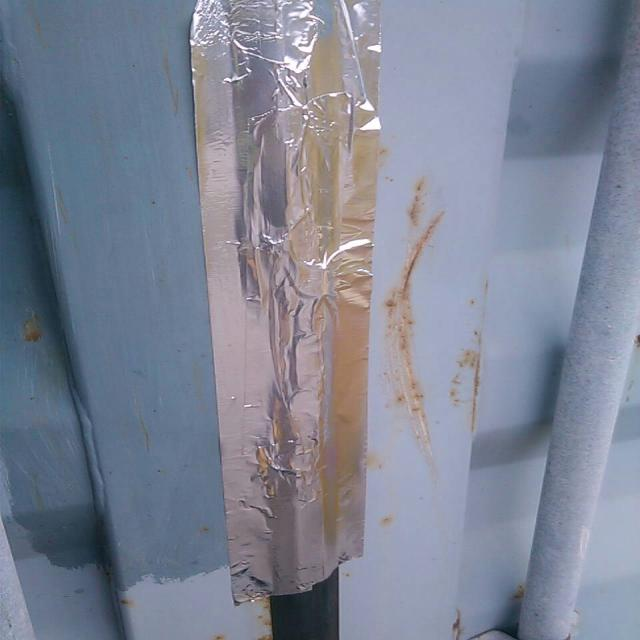rust: (383, 171, 451, 485)
